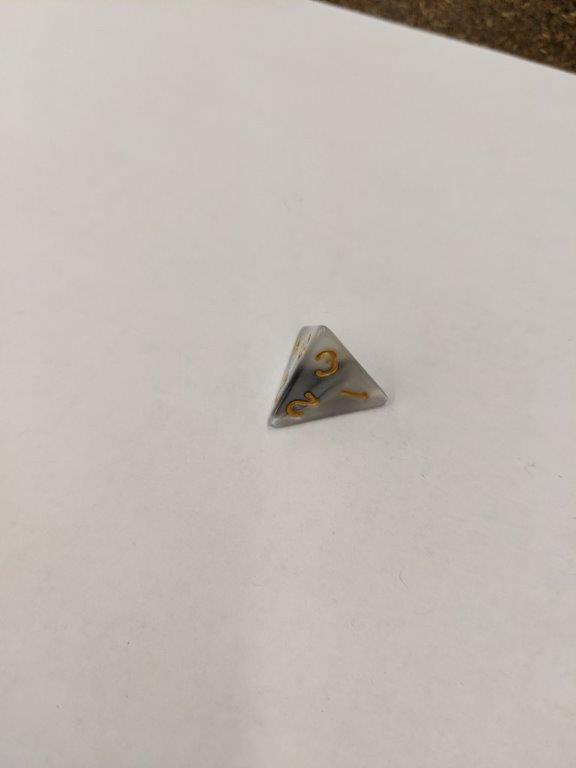d4-3: (263, 322, 389, 434)
